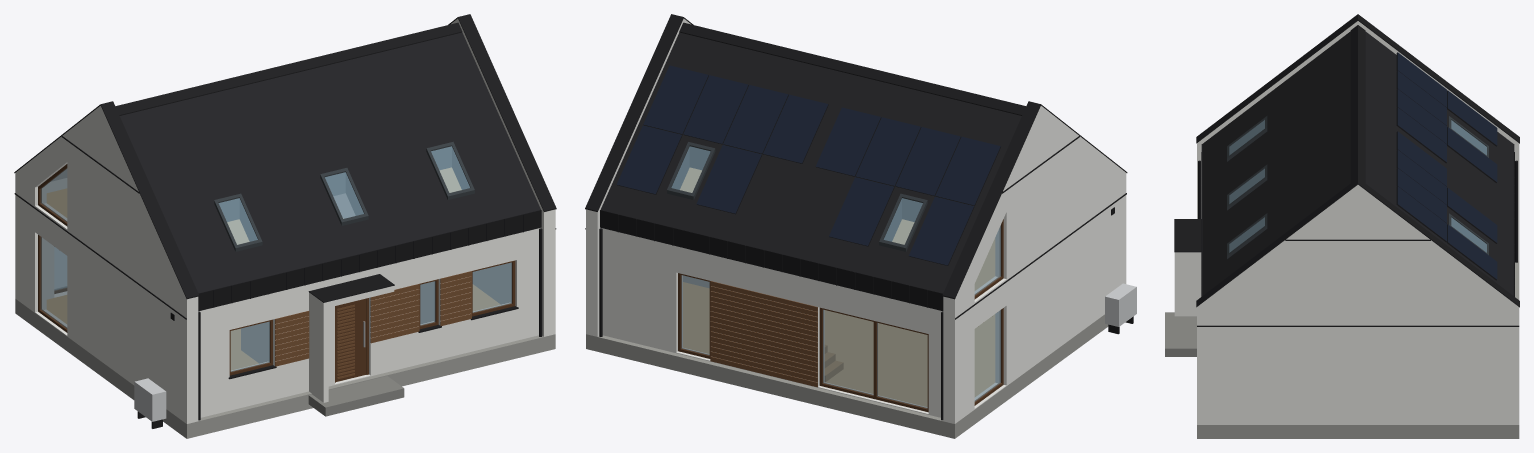
Rendered from dom_smart_comfort_braz.glb.
3 renders of one model, left to right at view 1: azimuth 30°, elevation 25°; view 2: azimuth 150°, elevation 25°; view 3: azimuth 270°, elevation 25°, orthographic. The views are drawn at different scales.
Parts seen in each view (by area): view 1: Dach – połać frontowa, Ściana szczytowa lewa, Ściana frontowa, Płyta fundamentowa, Pas okapowy frontowy, Deska elewacyjna – front, O1 <O1 okno 130x130>, Gąsior, Ściana szczytowa prawa, Opierzenie ściany szczytowej lewej, Opierzenie ściany szczytowej prawej, DZ <DZ drzwi zewnętrzne 90x210> (+17 smaller); view 2: Dach – połać ogrodowa, Instalacja fotowoltaiczna, Ściana szczytowa lewa, Ściana ogrodowa, Posadzka parteru, Płyta fundamentowa, Deska elewacyjna – ogród, Ot1 <Ot1 okno przesuwne HS 320x220>, Pas okapowy ogrodowy, Gąsior, Opierzenie ściany szczytowej lewej, Opierzenie ściany szczytowej prawej (+8 smaller); view 3: Ściana szczytowa prawa, Dach – połać frontowa, Instalacja fotowoltaiczna, Dach – połać ogrodowa, Płyta fundamentowa, Gąsior, Opierzenie ściany szczytowej prawej, Opierzenie ściany szczytowej lewej, Ściana szczytowa lewa, Zadaszenie – ścianka boczna, Podest wejściowy, Zadaszenie – obróbka (+6 smaller).
Part boxes in pixels (left/top/right/bottom): Dach – połać frontowa: left=120, top=32, right=540, bottom=293; Ściana szczytowa lewa: left=15, top=106, right=198, bottom=423; Ściana frontowa: left=198, top=228, right=540, bottom=417; Płyta fundamentowa: left=15, top=286, right=555, bottom=438; Pas okapowy frontowy: left=198, top=210, right=541, bottom=311; Deska elewacyjna – front: left=275, top=271, right=471, bottom=366; O1 <O1 okno 130x130>: left=229, top=260, right=515, bottom=375; Gąsior: left=115, top=22, right=462, bottom=115; Ściana szczytowa prawa: left=451, top=18, right=555, bottom=336; Opierzenie ściany szczytowej lewej: left=14, top=101, right=199, bottom=299; Opierzenie ściany szczytowej prawej: left=448, top=14, right=556, bottom=211; DZ <DZ drzwi zewnętrzne 90x210>: left=335, top=298, right=368, bottom=382; Dach – połać ogrodowa: left=600, top=32, right=1021, bottom=293; Instalacja fotowoltaiczna: left=616, top=65, right=1000, bottom=265; Ściana szczytowa lewa: left=943, top=106, right=1126, bottom=423; Ściana ogrodowa: left=601, top=228, right=942, bottom=417; Posadzka parteru: left=683, top=282, right=994, bottom=406; Płyta fundamentowa: left=586, top=314, right=1108, bottom=438; Deska elewacyjna – ogród: left=710, top=281, right=817, bottom=387; Ot1 <Ot1 okno przesuwne HS 320x220>: left=819, top=307, right=928, bottom=412; Pas okapowy ogrodowy: left=600, top=210, right=943, bottom=311; Gąsior: left=679, top=22, right=1025, bottom=115; Opierzenie ściany szczytowej lewej: left=942, top=101, right=1127, bottom=299; Opierzenie ściany szczytowej prawej: left=585, top=14, right=693, bottom=211; Ściana szczytowa prawa: left=1197, top=185, right=1519, bottom=424; Dach – połać frontowa: left=1202, top=31, right=1350, bottom=295; Instalacja fotowoltaiczna: left=1396, top=52, right=1497, bottom=280; Dach – połać ogrodowa: left=1365, top=32, right=1513, bottom=295; Płyta fundamentowa: left=1197, top=261, right=1519, bottom=438; Gąsior: left=1350, top=25, right=1365, bottom=183; Opierzenie ściany szczytowej prawej: left=1196, top=178, right=1519, bottom=307; Opierzenie ściany szczytowej lewej: left=1196, top=14, right=1519, bottom=143; Ściana szczytowa lewa: left=1197, top=21, right=1519, bottom=261; Zadaszenie – ścianka boczna: left=1174, top=258, right=1201, bottom=316; Podest wejściowy: left=1165, top=312, right=1196, bottom=356; Zadaszenie – obróbka: left=1174, top=219, right=1201, bottom=252.
Size of what is drawn, in the model's own units: 11.34 by 7.52 by 9.46.
